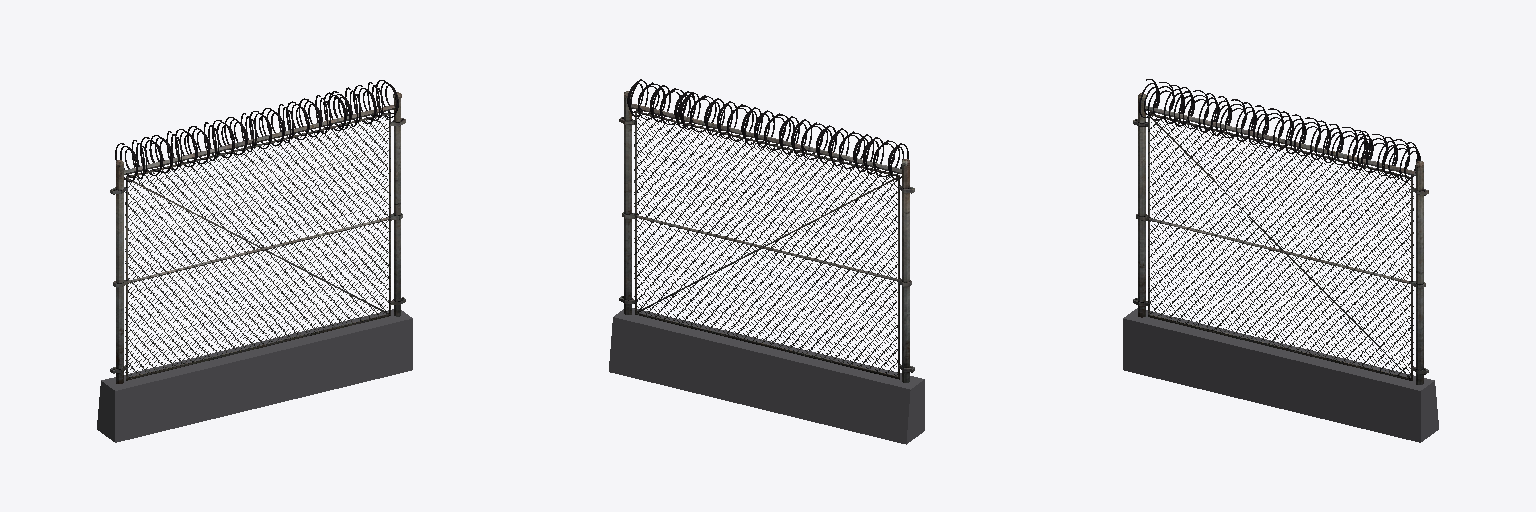
3 views of the same model, side by side, from view 1: azimuth 30°, elevation 25°; view 2: azimuth 150°, elevation 25°; view 3: azimuth 330°, elevation 25° (orthographic).
Parts seen in each view (by area): view 1: Union1, FenceChain1, FenceBody1; view 2: Union1, FenceChain1, FenceBody1; view 3: Union1, FenceChain1, FenceBody1.
Boxes of the visible parts, <box> form: Union1: <box>97,309,412,442</box>; FenceChain1: <box>125,115,390,378</box>; FenceBody1: <box>110,92,405,383</box>; Union1: <box>609,308,924,444</box>; FenceChain1: <box>634,114,897,377</box>; FenceBody1: <box>619,91,914,382</box>; Union1: <box>1123,308,1438,442</box>; FenceChain1: <box>1148,116,1413,379</box>; FenceBody1: <box>1133,93,1428,384</box>.
Bounding box in the file's own units: 12 × 11.15 × 1.47.
Materials: 4 (2 with a texture image).